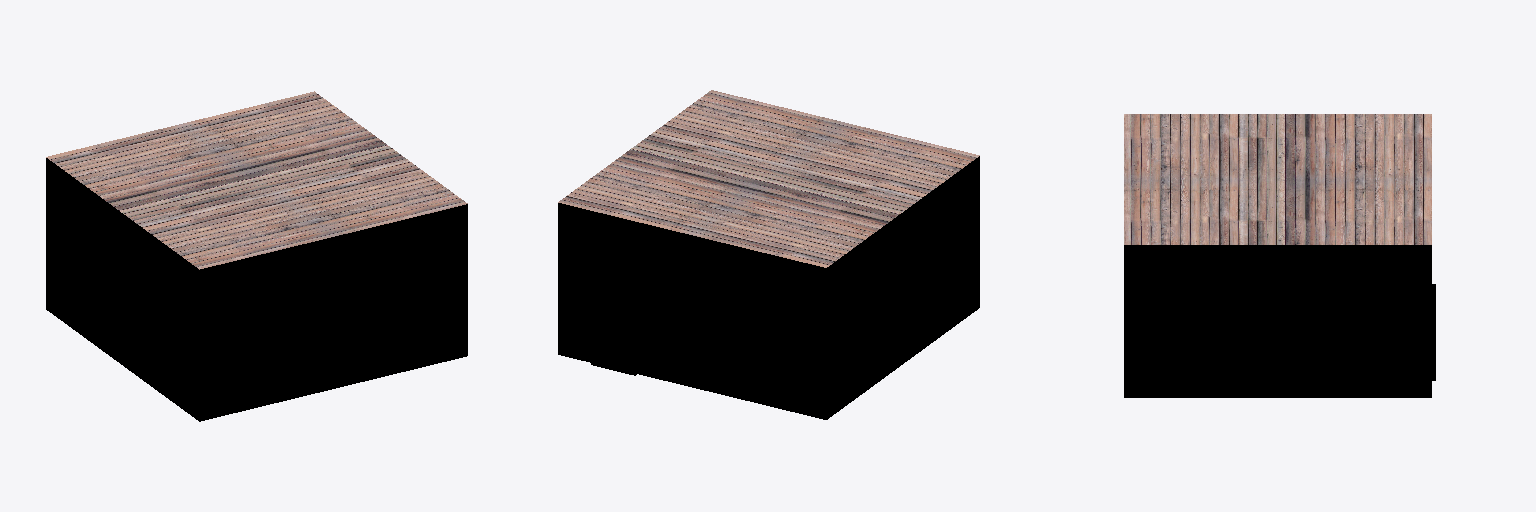
The picture shows the model from 3 angles: view 1: azimuth 30°, elevation 25°; view 2: azimuth 150°, elevation 25°; view 3: azimuth 270°, elevation 25°; orthographic projection.
Parts seen in each view (by area): view 1: pCube1; view 2: pCube1, pCube2; view 3: pCube1.
Part boxes in pixels (x1,y1,x2,y2): pCube1: (46, 91, 467, 421); pCube1: (558, 90, 979, 419); pCube2: (591, 289, 636, 375); pCube1: (1124, 114, 1431, 397).
Bounding box in the file's own units: 24.34 × 13.19 × 24.44.
Materials: 4 (2 with a texture image).